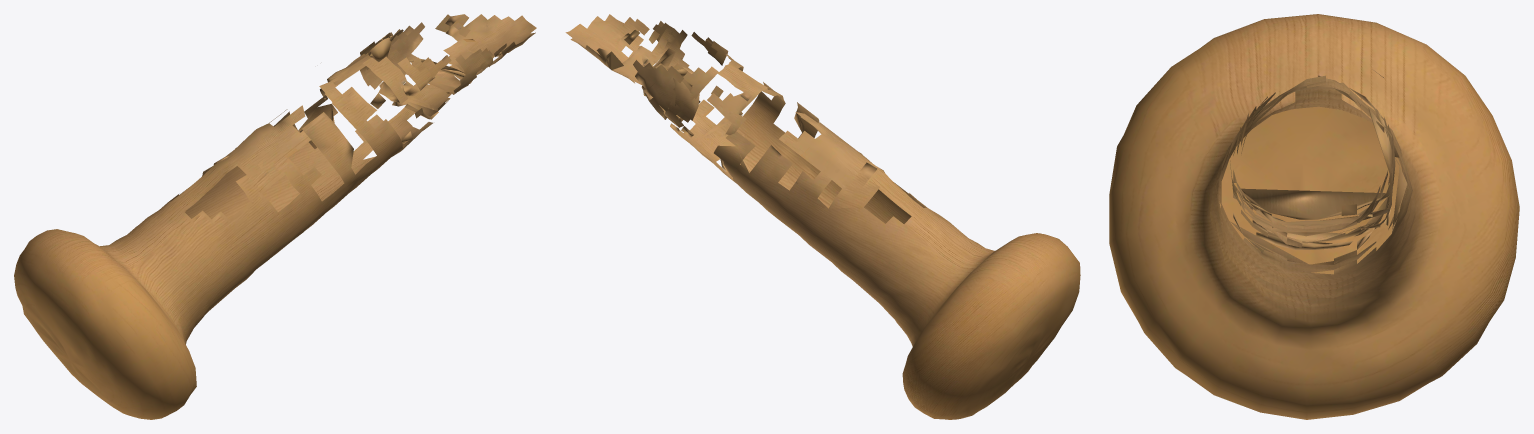
The model's file is Weapons__baseball_bat_0ff8246f_v4.cluster.glb.
3 views of the same model, side by side, from view 1: azimuth 30°, elevation 25°; view 2: azimuth 150°, elevation 25°; view 3: azimuth 270°, elevation 25° (orthographic). The views are drawn at different scales.
Parts seen in each view (by area): view 1: texture_pbr_20250901; view 2: texture_pbr_20250901; view 3: texture_pbr_20250901.
Part boxes in pixels (box(x1,y1,x2,y2)): texture_pbr_20250901: box(14, 14, 536, 419); texture_pbr_20250901: box(565, 14, 1080, 419); texture_pbr_20250901: box(1109, 14, 1519, 419).
Bounding box in the file's own units: 0.5254 × 0.3027 × 0.207.
Materials: 1 (1 with a texture image).
